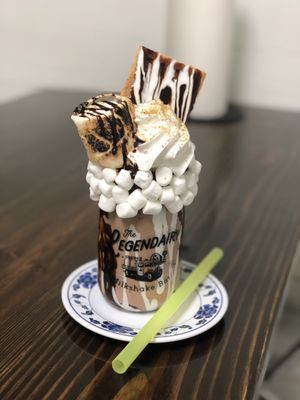pizza: (166, 0, 239, 122)
salad: (111, 246, 225, 375)
